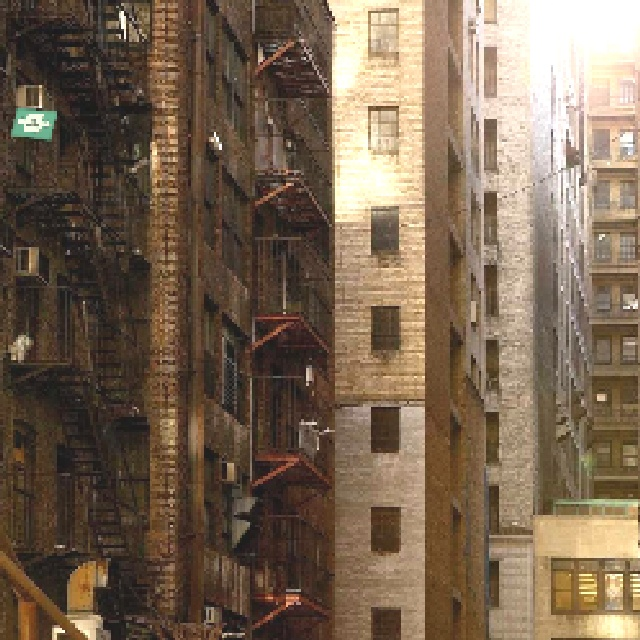GO_AROUND: (12, 110, 52, 133)
